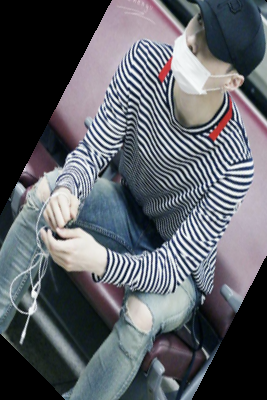mask_weared_incorrect: (156, 3, 267, 103)
